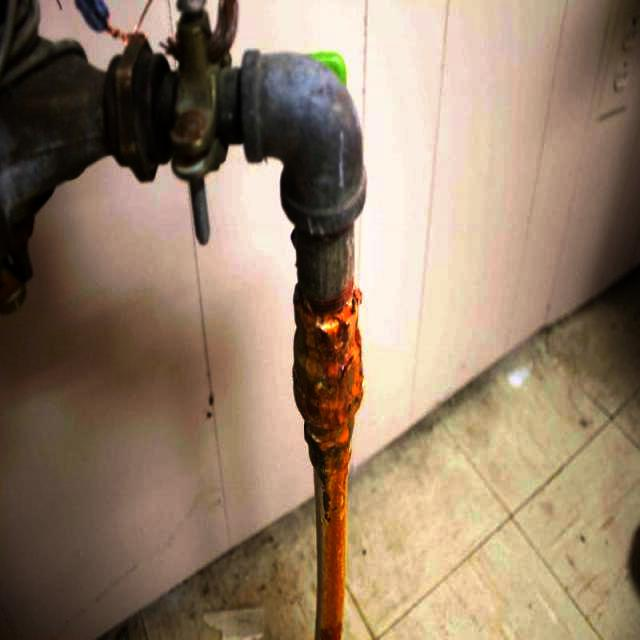Corrosion: (290, 277, 367, 640), (167, 101, 207, 147)
